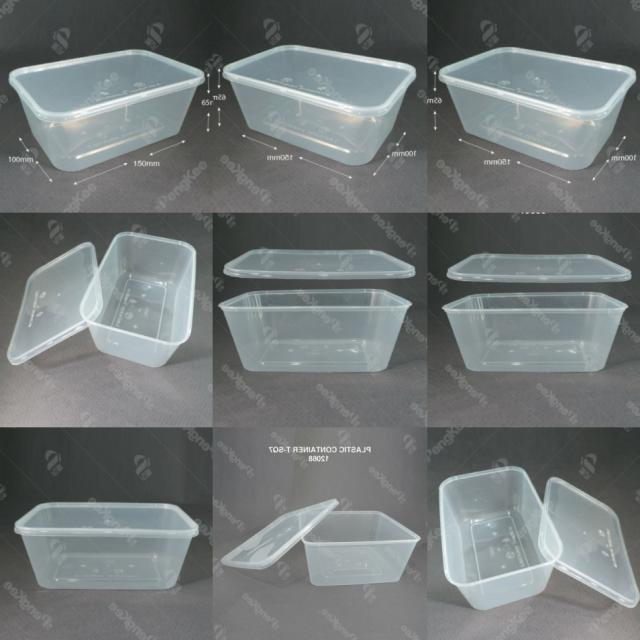plastik: (439, 47, 636, 170), (9, 50, 204, 171), (223, 45, 416, 165), (439, 466, 562, 611), (219, 289, 411, 372), (80, 232, 197, 367), (14, 504, 199, 589), (443, 292, 627, 372), (539, 477, 639, 607), (7, 242, 102, 365), (300, 507, 421, 585), (221, 499, 339, 569), (223, 248, 416, 279), (447, 253, 632, 283)
